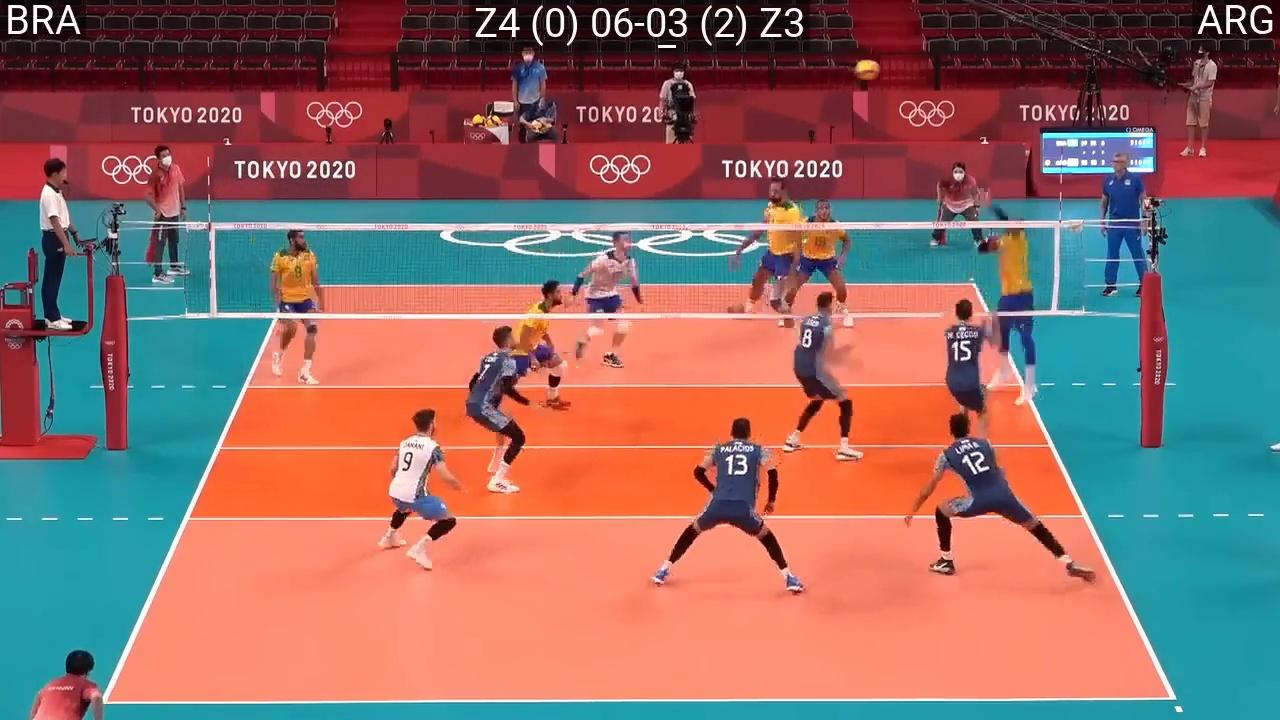ball: (854, 59, 880, 83)
